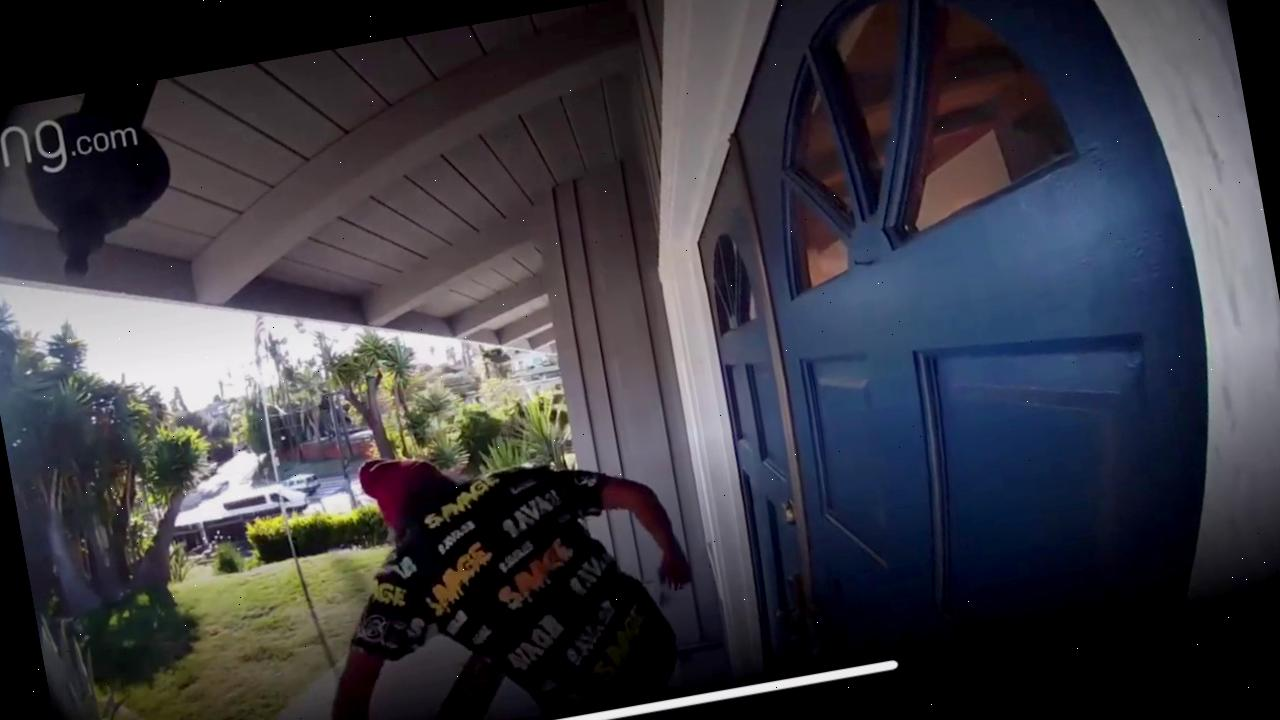suspicion: (287, 372, 739, 720)
